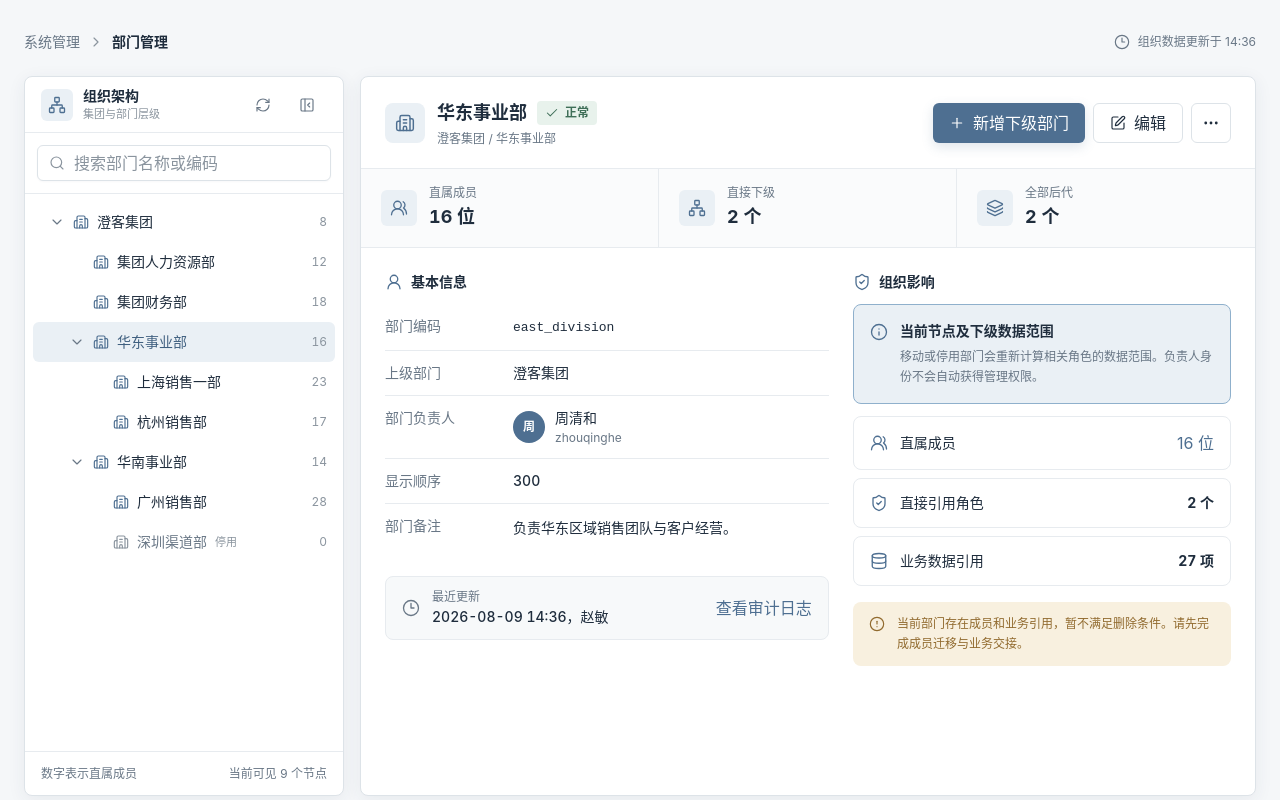
DepartmentManagementPrototype › changes the detail panel when an organization node is selected
Click the list item "集团财务部 18".
click(210, 302)  # box 93,284 -> 327,320
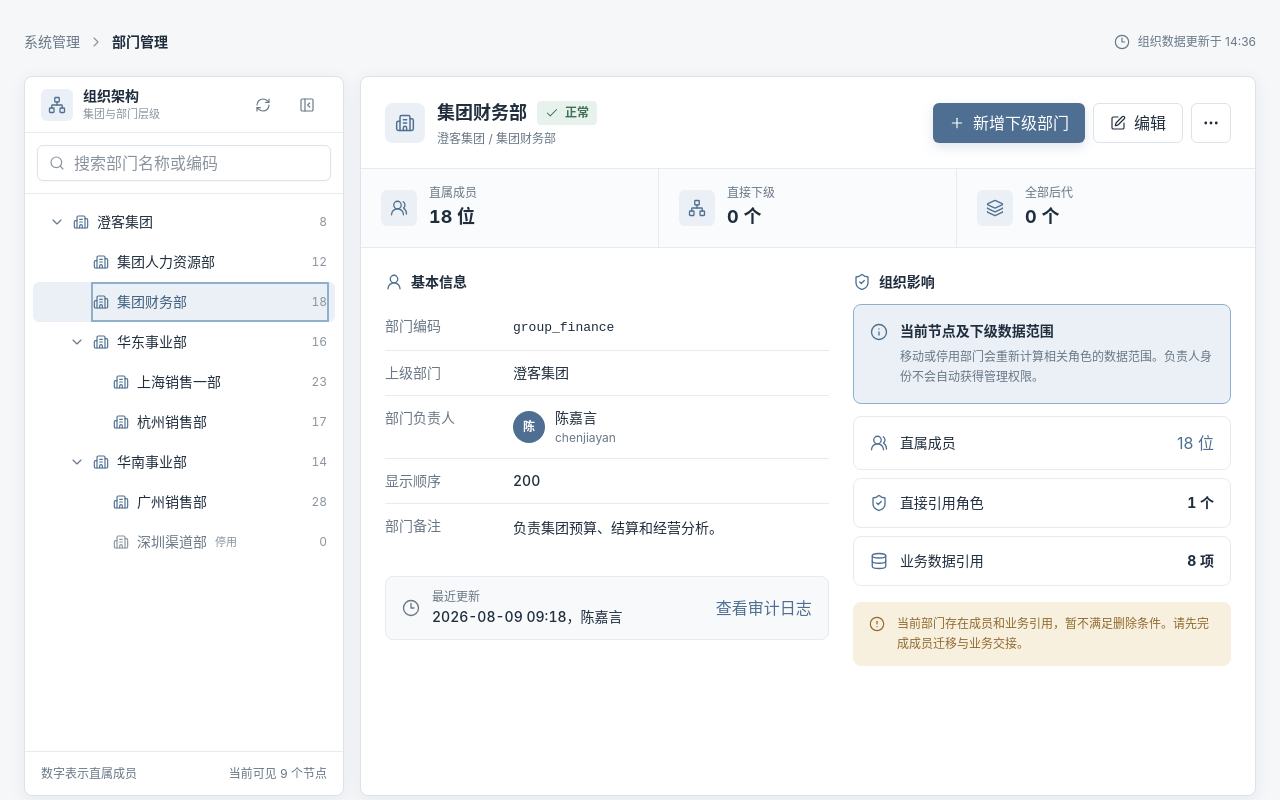
Result: the heading "集团财务部" is shown at 437,98 -> 527,126
Result: the text "group_finance" is shown at 513,320 -> 614,335
